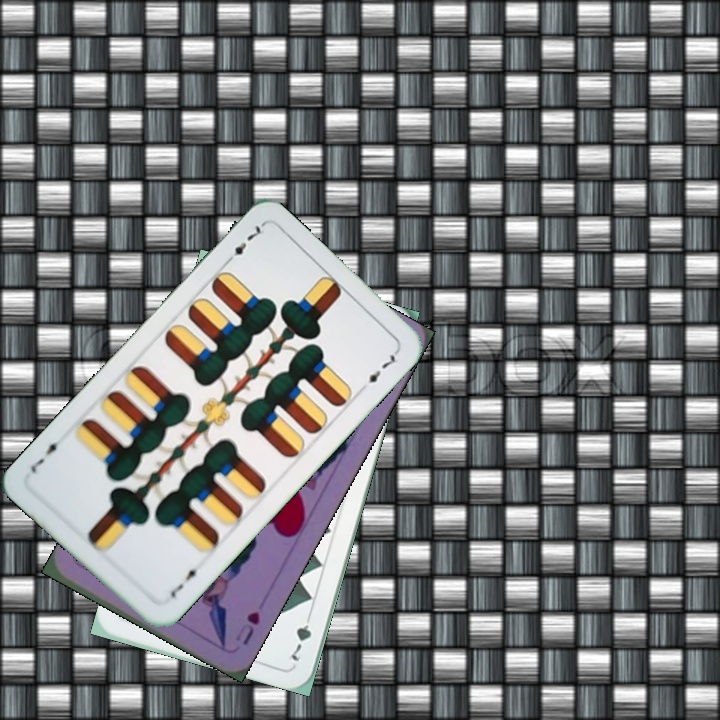E7: (220, 220, 266, 268), (166, 561, 205, 601)
G7: (287, 608, 315, 664)
HU: (231, 606, 263, 648)
